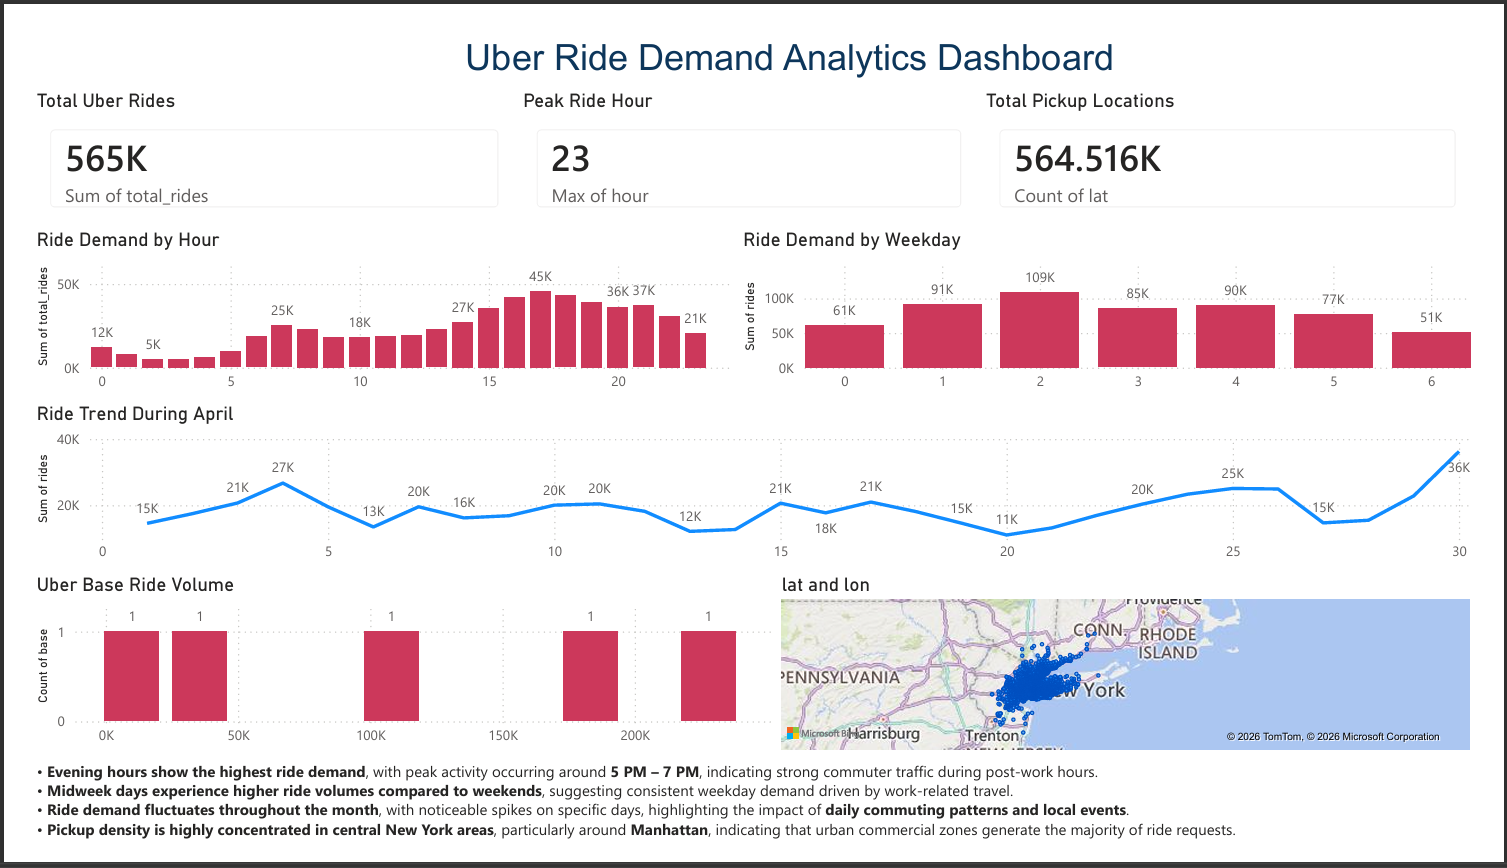

This screenshot's page, from the dashboard's own definition file:
{"tool":"powerbi","page":{"name":"Page 1Uber Ride Demand Analytics Dashboard","canvas":[1280,720],"ordinal":0},"visuals":[{"type":"clusteredColumnChart","title":"Ride Demand by Hour","fields":{"Category":["rides_by_hour.hour"],"Y":["Sum(rides_by_hour.total_rides)"]},"box":[0,173.8,626.2,153.8],"z":0},{"type":"clusteredColumnChart","title":"Ride Demand by Weekday","fields":{"Category":["rides_by_weekday.weekday"],"Y":["Sum(rides_by_weekday.rides)"]},"box":[626.2,173.8,653.8,153.8],"z":1000},{"type":"lineChart","title":"Ride Trend During April","fields":{"Category":["rides_by_day.day"],"Y":["Sum(rides_by_day.rides)"]},"box":[0,327.5,1280,151.2],"z":2000},{"type":"clusteredColumnChart","title":"Uber Base Ride Volume","fields":{"Category":["rides_by_base.rides"],"Y":["CountNonNull(rides_by_base.base)"]},"box":[0,478.8,660,162.5],"z":3000},{"type":"map","fields":{"Y":["pickup_locations.lat"],"X":["pickup_locations.lon"]},"box":[660,478.8,620,162.5],"z":4000},{"type":"cardVisual","title":"Total Uber Rides","fields":{"Data":["Sum(rides_by_hour.total_rides)"]},"box":[0,51.2,431.2,122.5],"z":5000},{"type":"cardVisual","title":"Peak Ride Hour","fields":{"Data":["Max(rides_by_hour.hour)"]},"box":[431.2,51.2,410,122.5],"z":6000},{"type":"cardVisual","title":"Total Pickup Locations","fields":{"Data":["CountNonNull(pickup_locations.lat)"]},"box":[841.2,51.2,438.8,122.5],"z":7000},{"type":"textbox","box":[282.9,0,778.6,51.4],"z":8000},{"type":"textbox","box":[0,641.2,1280,78.8],"z":8001}]}

Visuals, with their boxes in screenshot pixels (x1, y1, x2, y2), scaled from the page's 1280x720 canvas onto the 1507x868 screenshot:
"Ride Demand by Hour" clusteredColumnChart: box(0, 210, 737, 395)
"Ride Demand by Weekday" clusteredColumnChart: box(737, 210, 1506, 395)
"Ride Trend During April" lineChart: box(0, 395, 1506, 577)
"Uber Base Ride Volume" clusteredColumnChart: box(0, 577, 777, 773)
map - pickup_locations.lat x pickup_locations.lon: box(777, 577, 1506, 773)
"Total Uber Rides" cardVisual: box(0, 62, 508, 209)
"Peak Ride Hour" cardVisual: box(508, 62, 990, 209)
"Total Pickup Locations" cardVisual: box(990, 62, 1506, 209)
textbox: box(333, 0, 1250, 62)
textbox: box(0, 773, 1506, 867)
